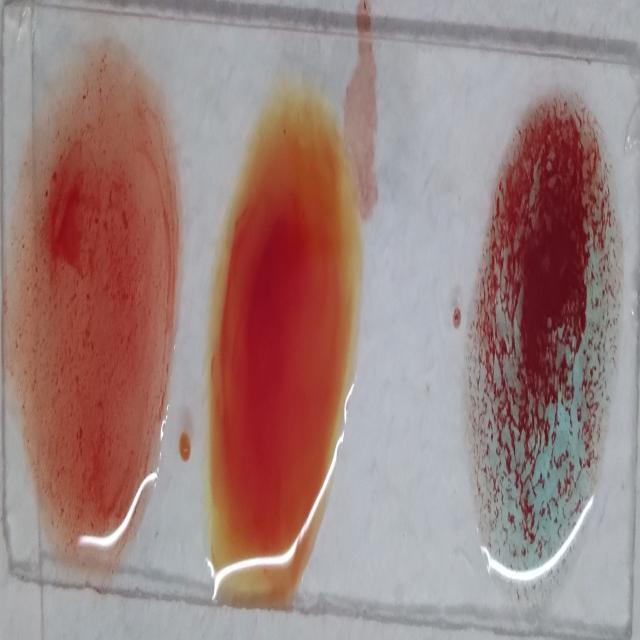A: (473, 90, 625, 590)
D: (15, 57, 178, 569)
